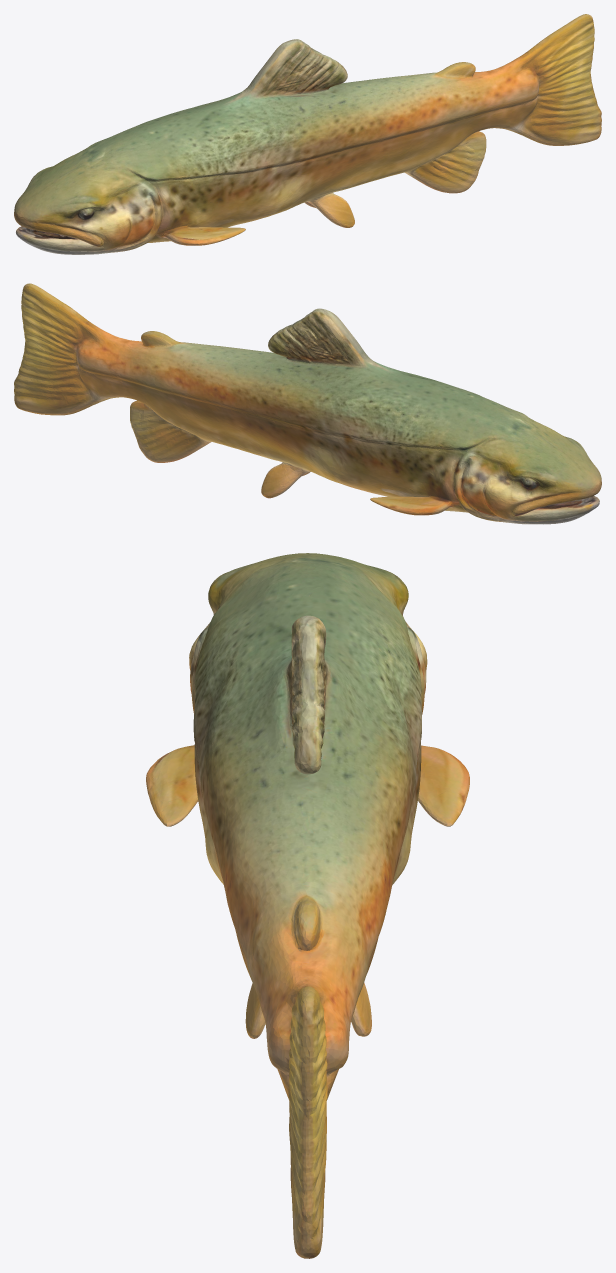
The model's file is brown_trout.fbx.
3 views of the same model, one above another, from view 1: azimuth 30°, elevation 25°; view 2: azimuth 150°, elevation 25°; view 3: azimuth 270°, elevation 25° (orthographic). The views are drawn at different scales.
Visible parts, largest first — view 1: world; view 2: world; view 3: world.
Part boxes in pixels (x1=…): world: x1=14, y1=14, x2=601, y2=254; world: x1=14, y1=283, x2=601, y2=524; world: x1=146, y1=553, x2=469, y2=1258.
Bounding box in the file's own units: 199 × 62.79 × 47.86.
Materials: 1 (1 with a texture image).
